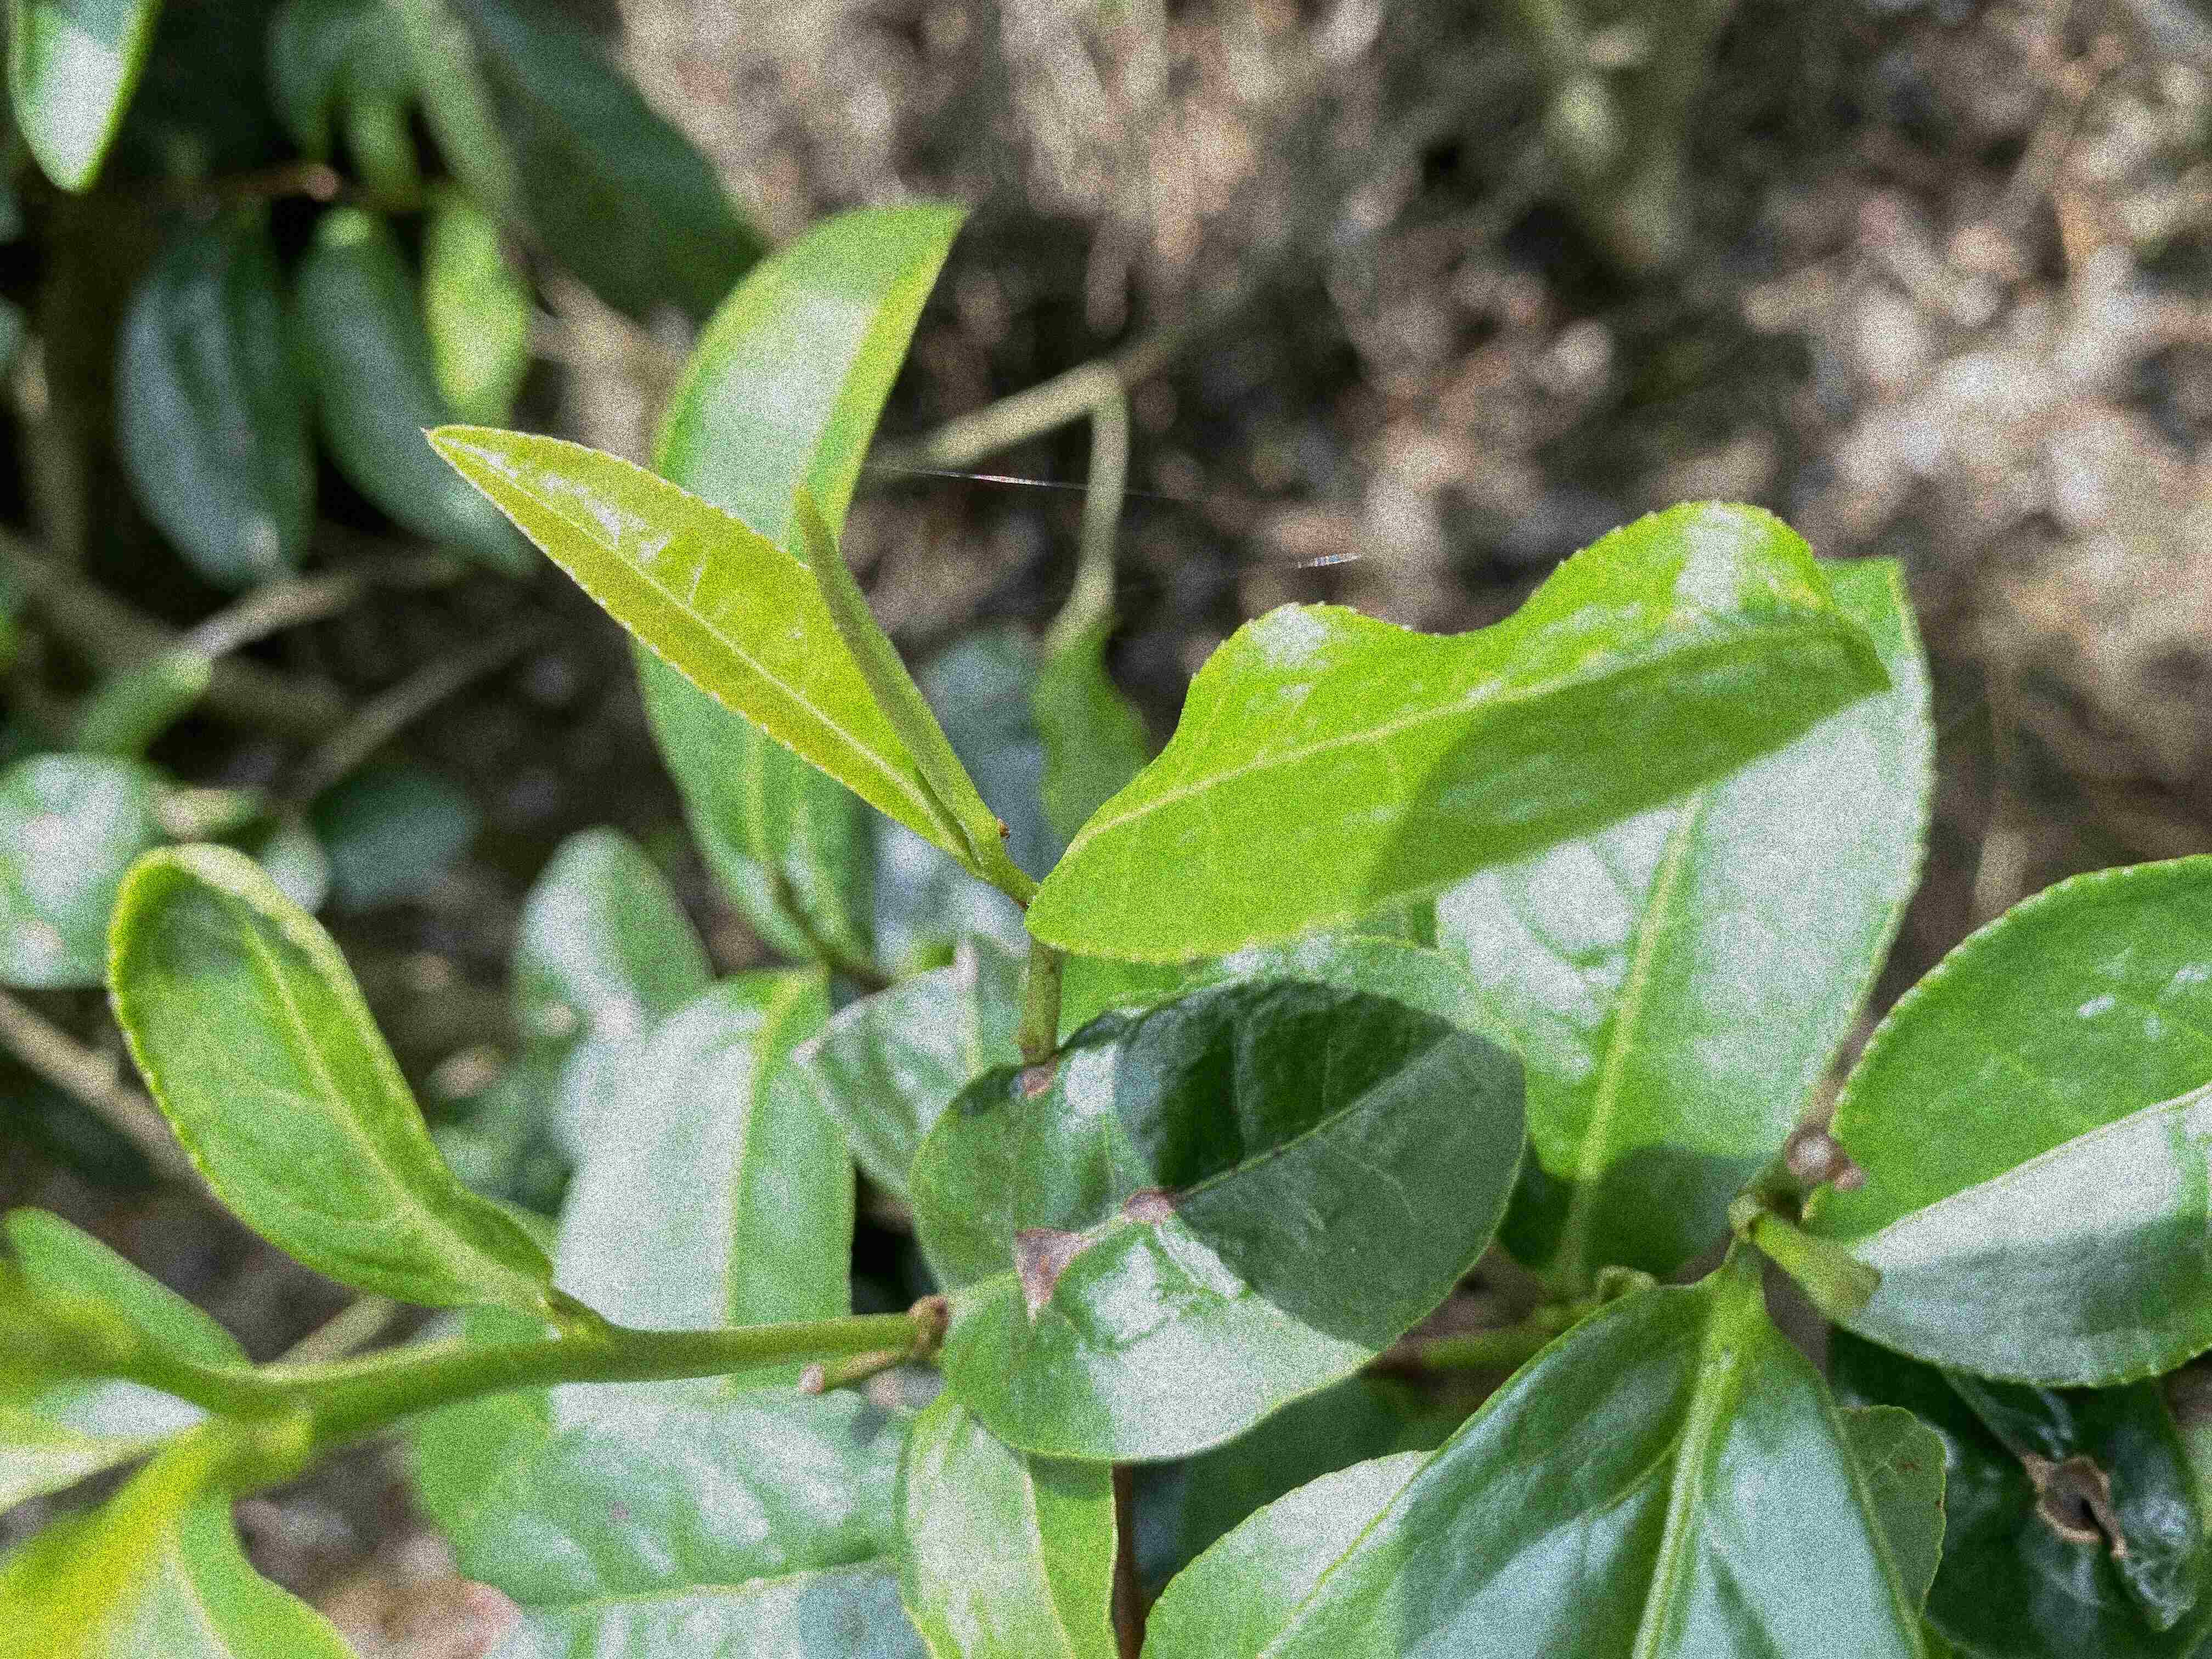healthy: (1026, 493, 1892, 964), (425, 425, 984, 861), (101, 843, 556, 1309)
tanju_high: (911, 934, 1531, 1460)
